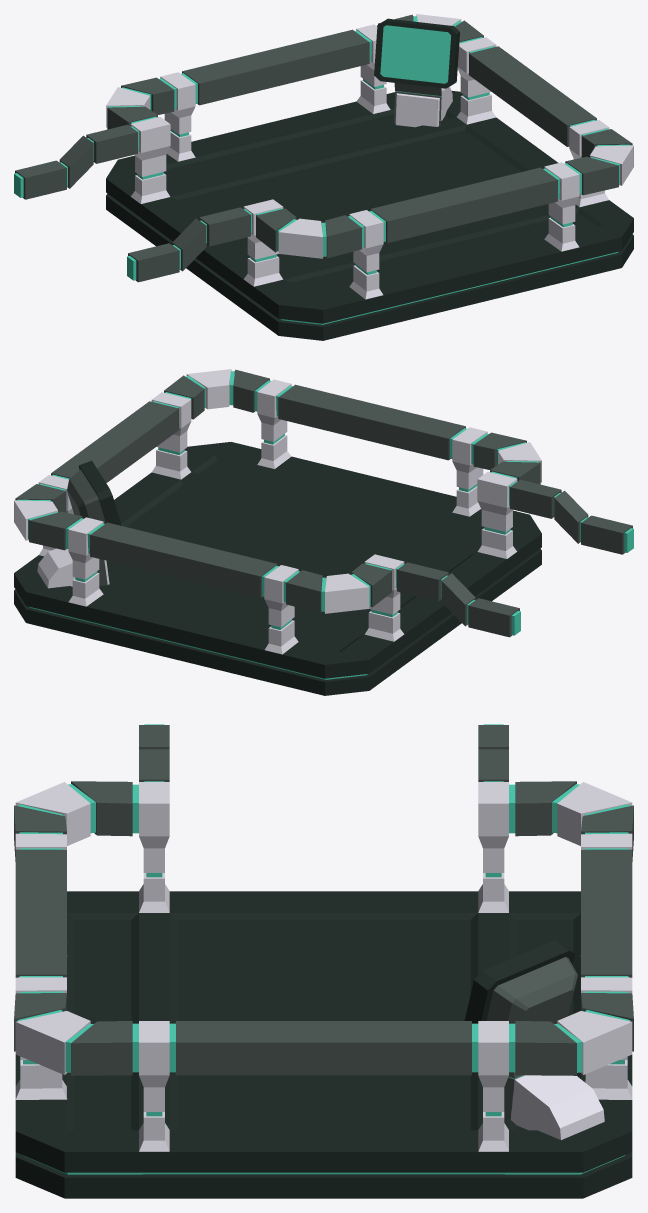
The model's file is Lift.fbx.
The picture shows the model from 3 angles, top to bottom: view 1: azimuth 30°, elevation 25°; view 2: azimuth 150°, elevation 25°; view 3: azimuth 270°, elevation 25°; orthographic projection. The views are drawn at different scales.
Visible parts, largest first — view 1: Lift, LiftScreen; view 2: Lift, LiftScreen; view 3: Lift, LiftScreen.
Boxes of the visible parts, x1,y1,x2,y2 form: Lift: (14, 14, 633, 340); LiftScreen: (374, 18, 459, 127); Lift: (14, 369, 633, 695); LiftScreen: (37, 460, 121, 588); Lift: (14, 724, 633, 1198); LiftScreen: (464, 940, 604, 1139).
Bounding box in the file's own units: 801 × 210 × 603.
